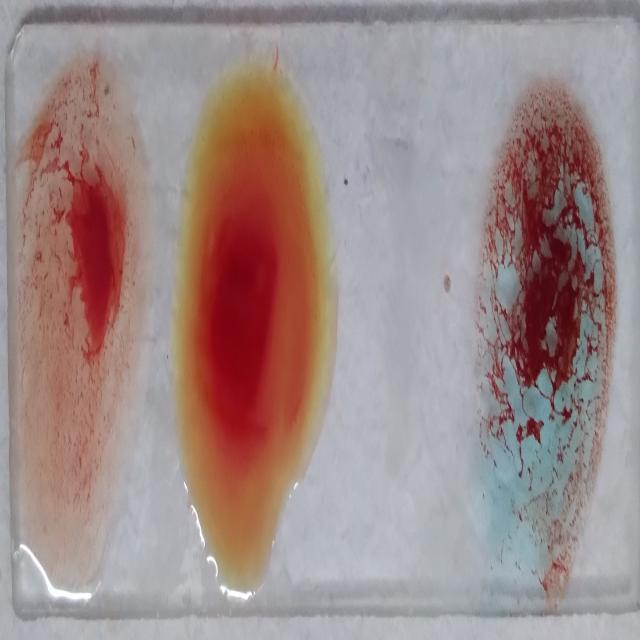A: (475, 87, 617, 597)
D: (20, 61, 144, 566)
